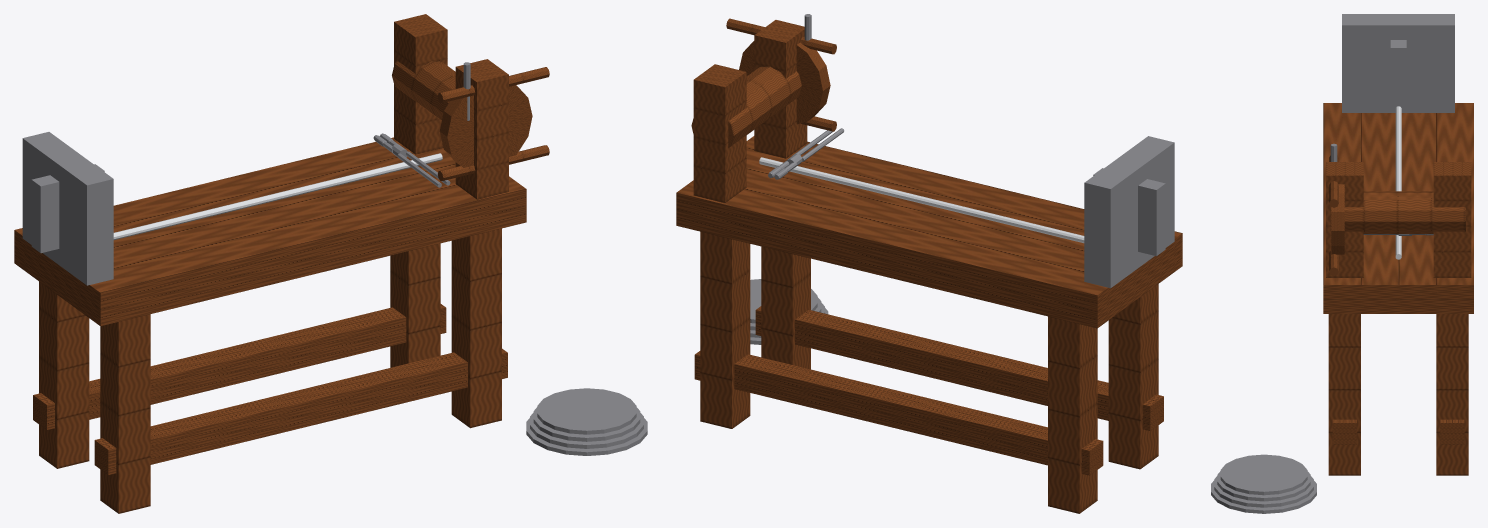
The model's file is blacksmith-forge-and-armoury-blacksmith-forge-and-armo-d30c4fa5__37587.glb.
3 views of the same model, side by side, from view 1: azimuth 30°, elevation 25°; view 2: azimuth 150°, elevation 25°; view 3: azimuth 270°, elevation 25° (orthographic). The views are drawn at different scales.
Visible parts, largest first — view 1: blacksmith-forge-and-armoury-drawing-block; view 2: blacksmith-forge-and-armoury-drawing-block; view 3: blacksmith-forge-and-armoury-drawing-block.
Part boxes in pixels (<box>): blacksmith-forge-and-armoury-drawing-block: <box>14,14,647,513</box>; blacksmith-forge-and-armoury-drawing-block: <box>676,14,1182,513</box>; blacksmith-forge-and-armoury-drawing-block: <box>1211,14,1473,513</box>.
Bounding box in the file's own units: 1.98 × 1.3 × 0.9769.
4 materials, 1 textured.
